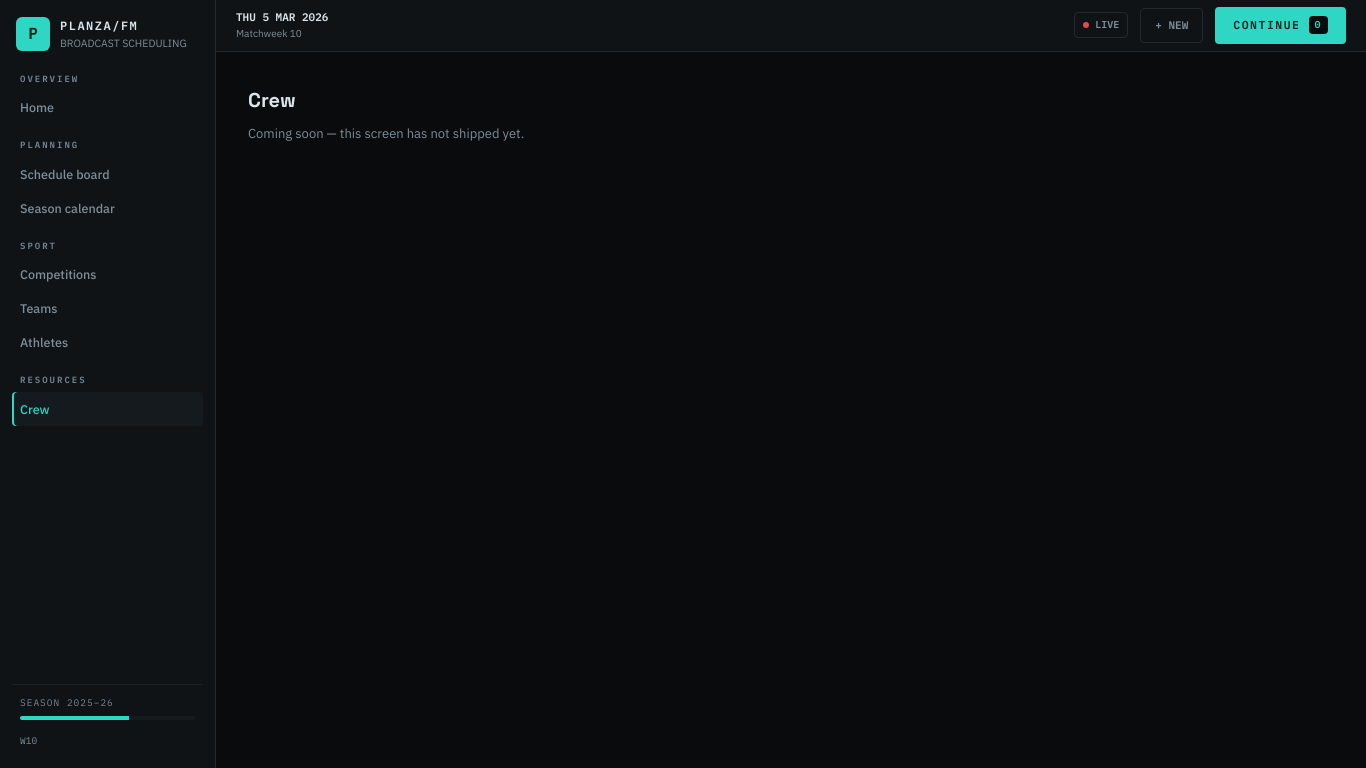
Scenario: CONTINUE (Story FM1-5 AC — wired via useContinue(), not a placeholder) › clicking CONTINUE with an empty queue shows an ALL CLEAR toast and does not navigate
What coordinates should you click on to do the following:
click the button with test id "fm-continue-button"
I would click on:
 (1281, 26)
Its box is [1215, 7, 1346, 44].
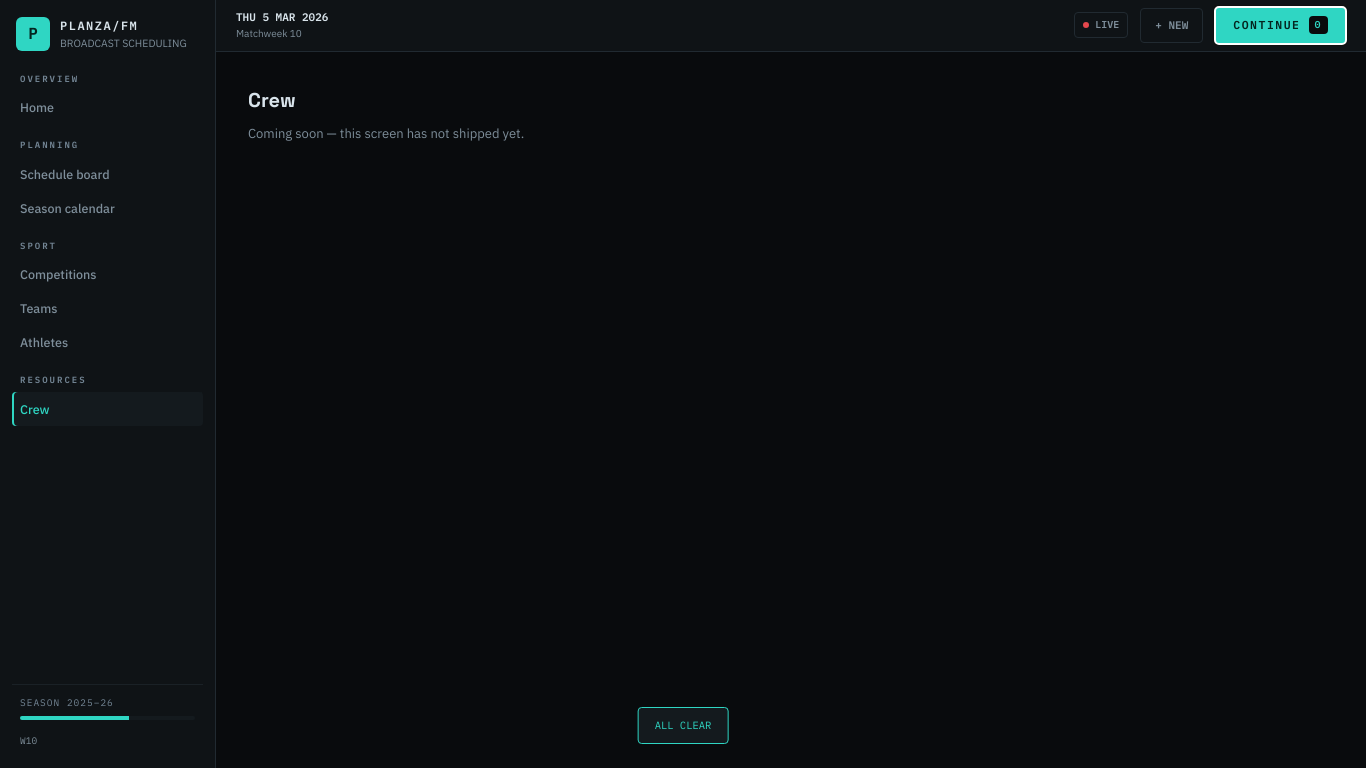
Result: the message with test id "fm-toast" reads "ALL CLEAR" at [655, 718, 711, 732]
